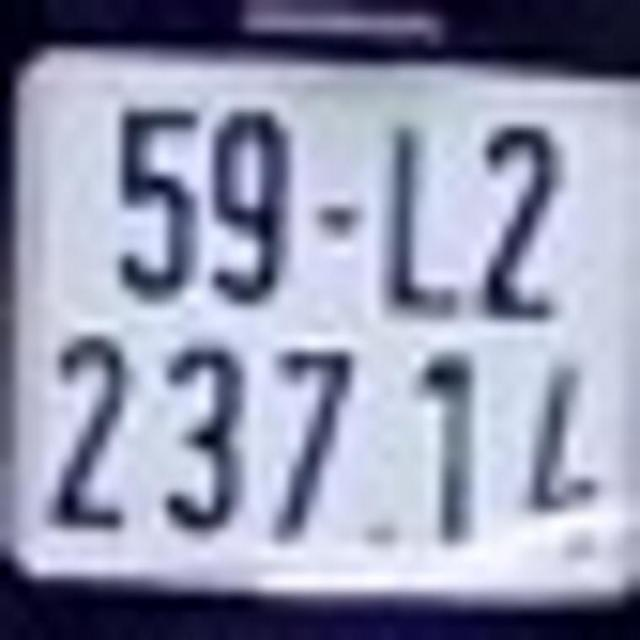1: (405, 342, 480, 542)
2: (56, 328, 126, 538), (488, 116, 556, 311)
3: (165, 346, 238, 529)
4: (528, 352, 599, 561)
5: (121, 106, 196, 297)
7: (272, 343, 352, 531)
9: (210, 112, 289, 296)
L: (392, 120, 468, 309)
